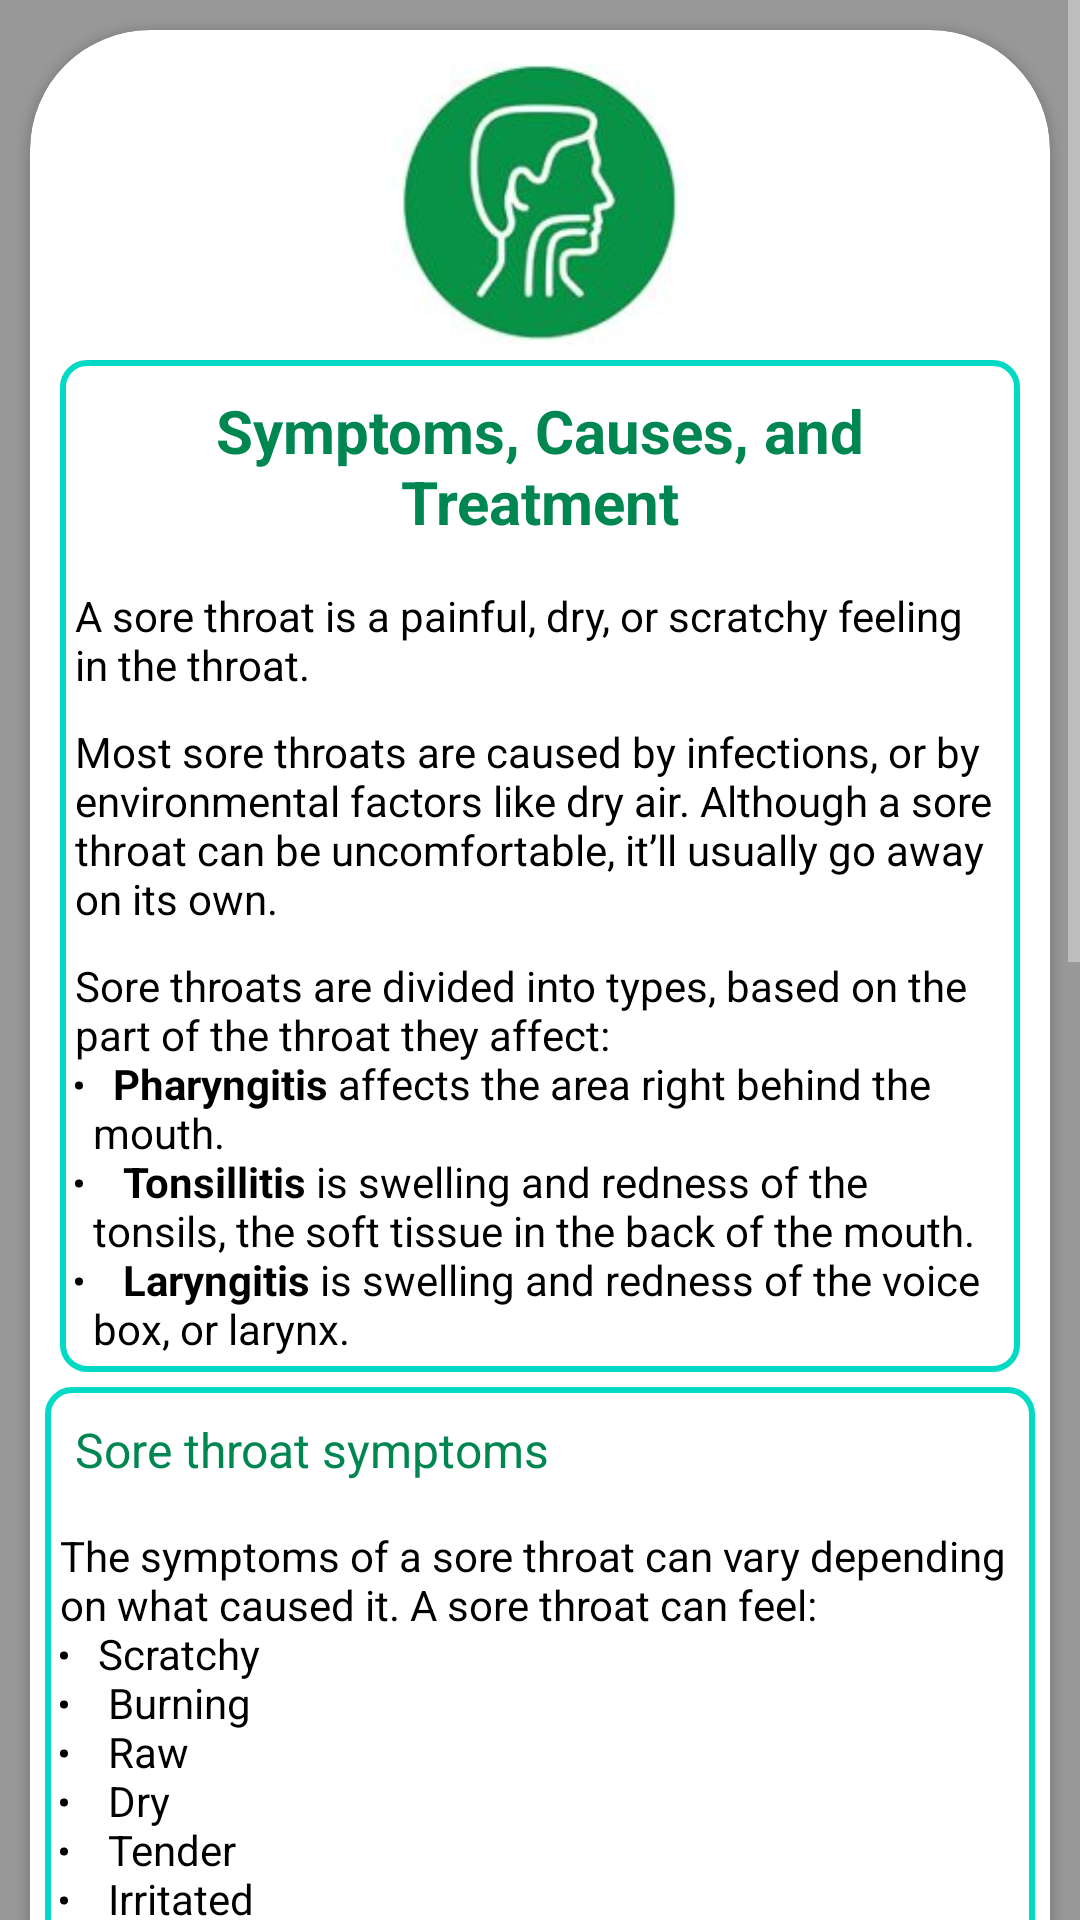

Point at icon controls on the screen. Image size 1080×1920, points as (x=x, y=y).
sorethroat: (x=540, y=203)
